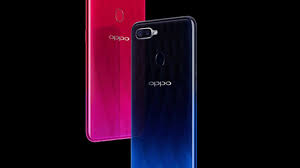oppo: (127, 16, 200, 168)
